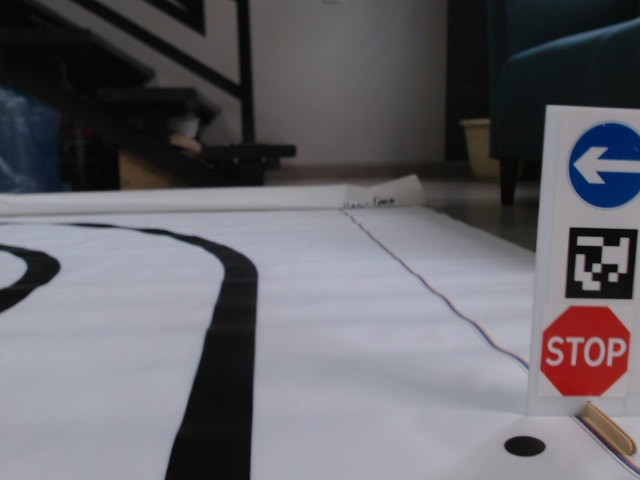Stop: (538, 304, 629, 398)
